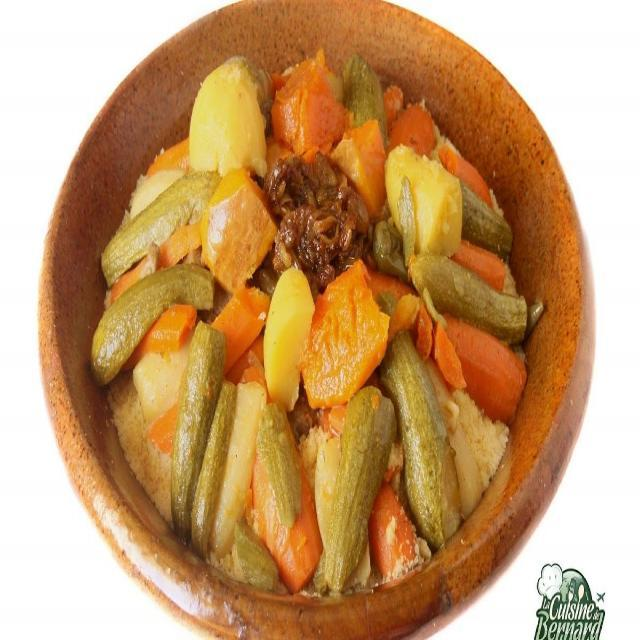Couscous: (91, 51, 532, 602)
